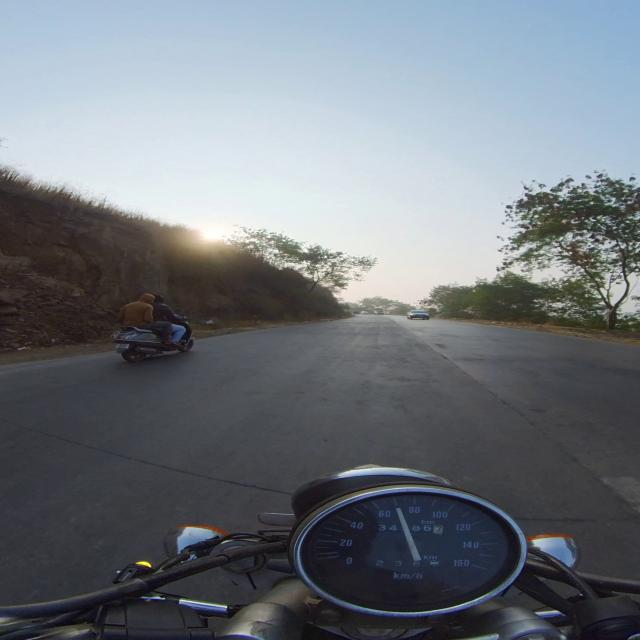car: (408, 310, 430, 319)
motorcycle: (0, 466, 639, 639), (112, 315, 194, 362)
